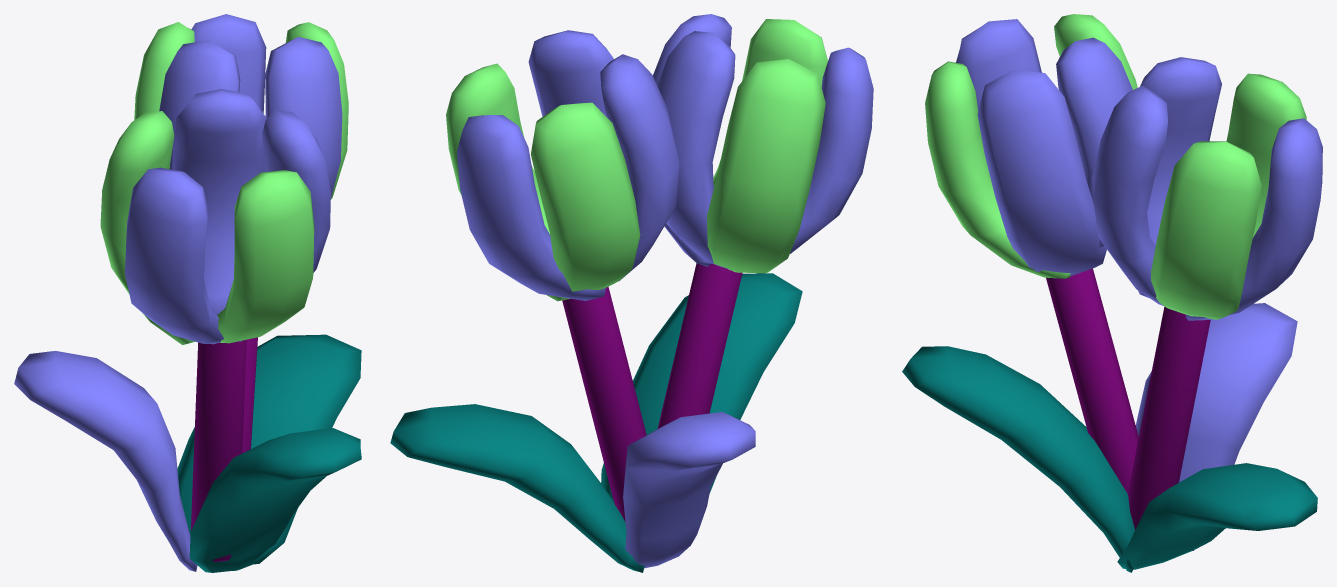
The model's file is Flower02.fbx.
3 views of the same model, side by side, from view 1: azimuth 30°, elevation 25°; view 2: azimuth 150°, elevation 25°; view 3: azimuth 270°, elevation 25° (orthographic).
Parts seen in each view (by area): view 1: Low_Flower02; view 2: Low_Flower02; view 3: Low_Flower02.
Part boxes in pixels (x1,y1,x2,y2): Low_Flower02: (14, 14, 361, 572); Low_Flower02: (390, 14, 873, 572); Low_Flower02: (902, 14, 1322, 572).
Size of the model in its own units: 537 by 749 by 565.
